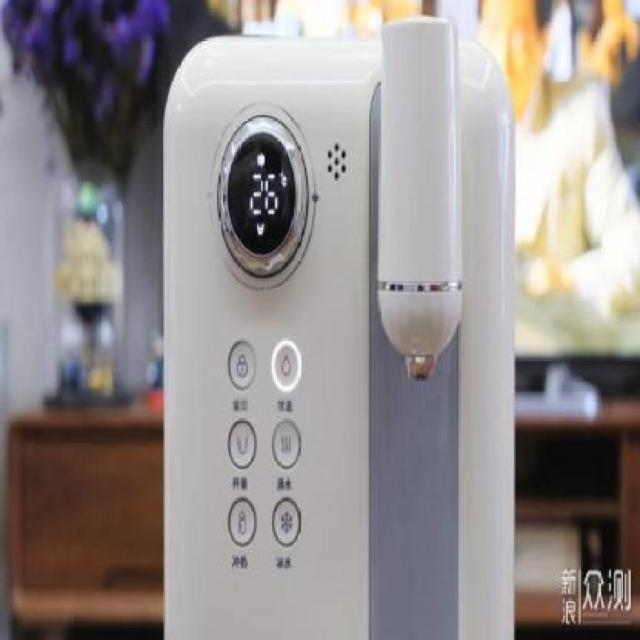cooler: (163, 12, 517, 640)
